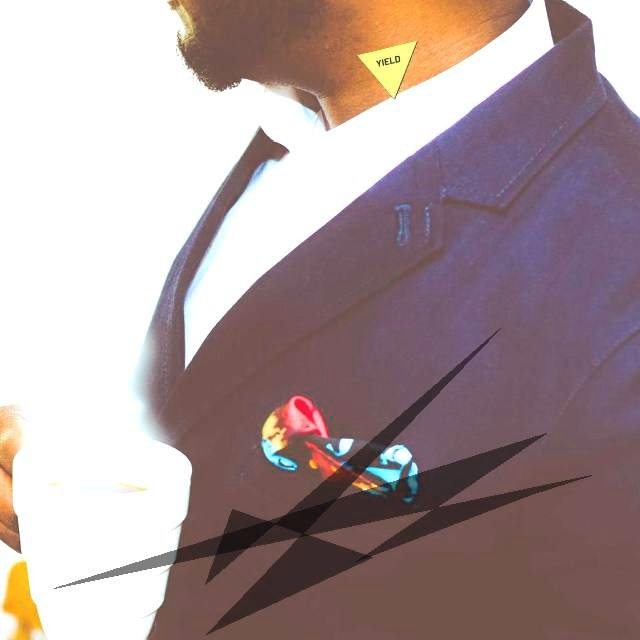YIELD: (356, 40, 418, 100)
